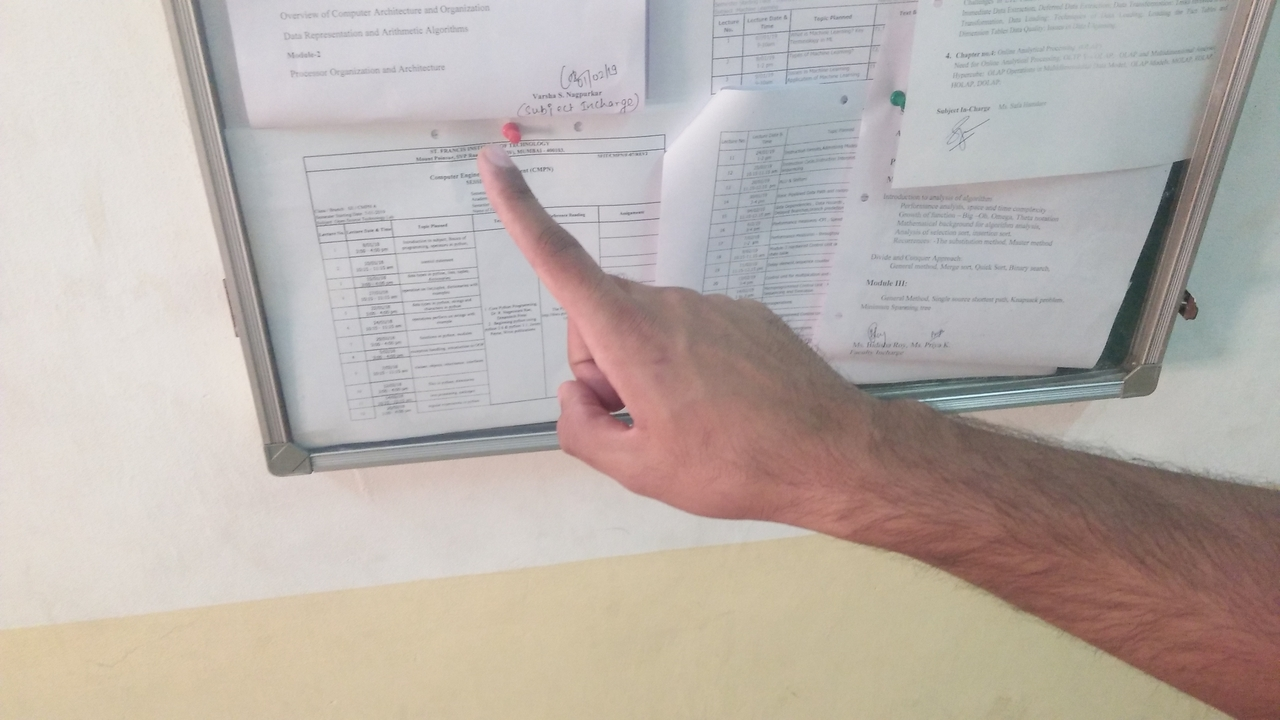fingertip: (470, 134, 522, 186)
